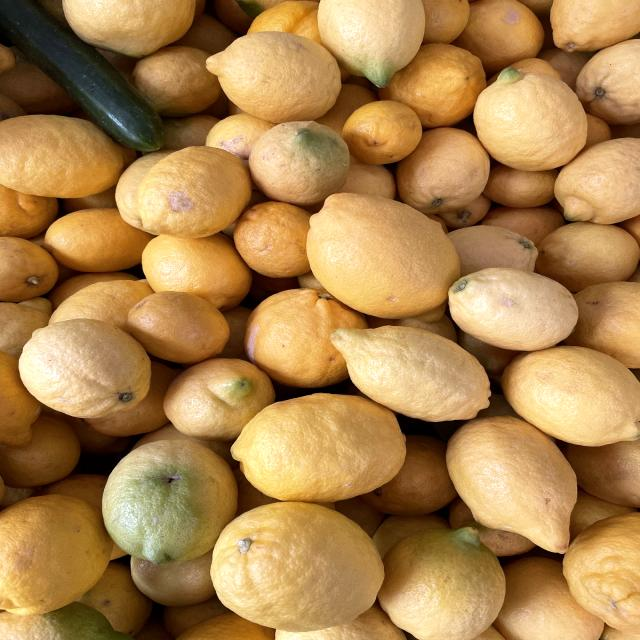lemon: (180, 498, 393, 633), (295, 183, 468, 320), (441, 408, 592, 559), (222, 387, 410, 504), (92, 438, 247, 568), (324, 317, 499, 432), (458, 50, 594, 175), (10, 313, 162, 422), (114, 128, 258, 243), (192, 29, 352, 132), (443, 260, 585, 356)
